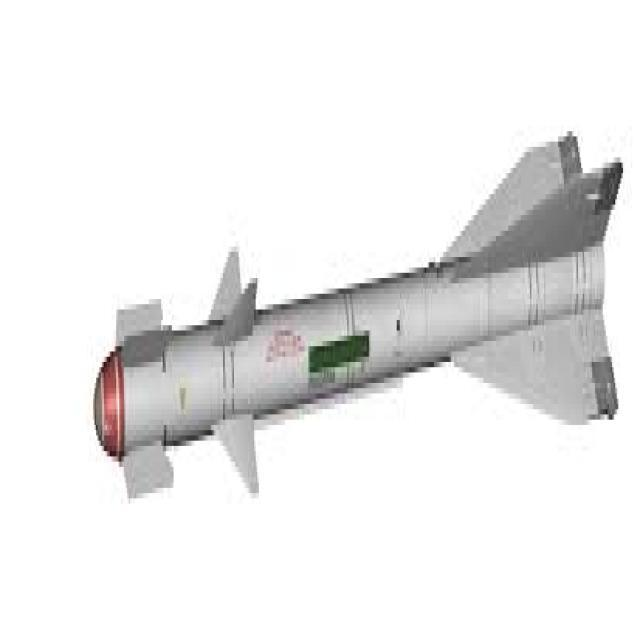missile: (88, 137, 620, 484)
